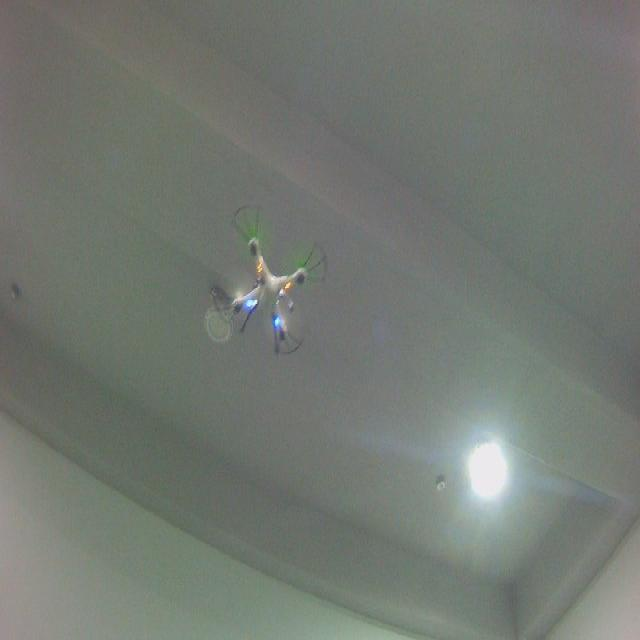drone: (209, 202, 330, 357)
